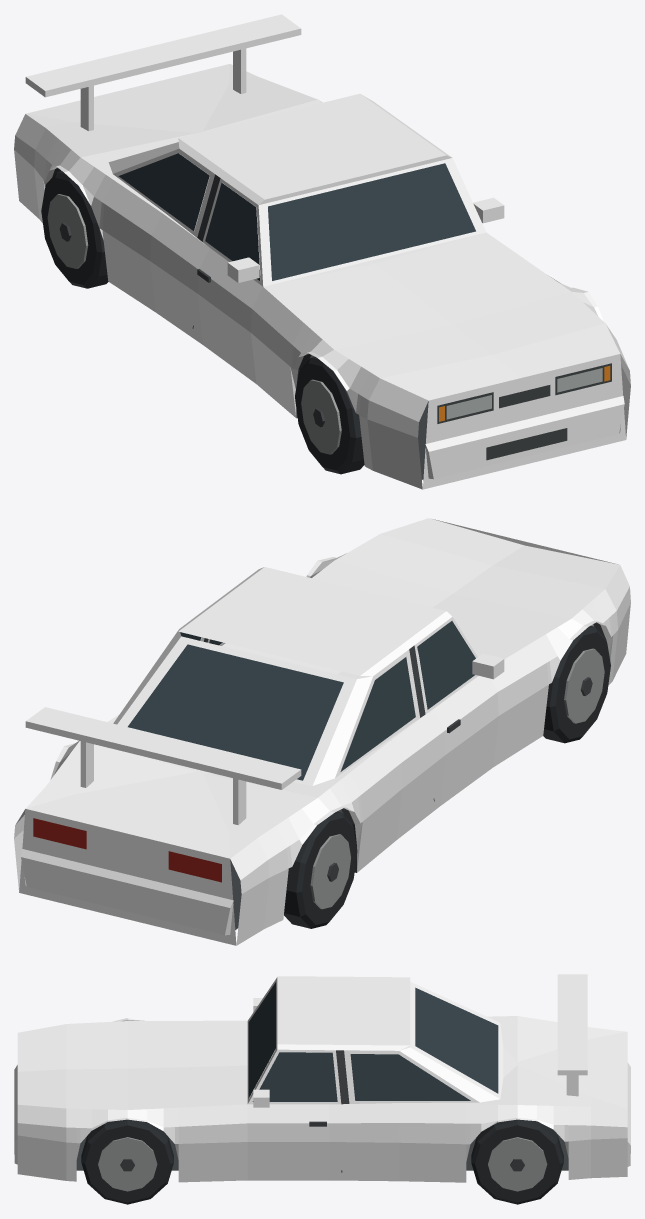
File: sanga_tsukikage_corrida_99.glb
3 views of the same model, one above another, from view 1: azimuth 30°, elevation 25°; view 2: azimuth 150°, elevation 25°; view 3: azimuth 270°, elevation 25° (orthographic). The views are drawn at different scales.
Visible parts, largest first — view 1: sanga_tsukikage_corrida_99; view 2: sanga_tsukikage_corrida_99; view 3: sanga_tsukikage_corrida_99.
Boxes of the visible parts, x1,y1,x2,y2 form: sanga_tsukikage_corrida_99: (14, 14, 630, 489); sanga_tsukikage_corrida_99: (14, 518, 630, 945); sanga_tsukikage_corrida_99: (14, 974, 630, 1204).
Bounding box in the file's own units: 1.77 × 1.19 × 4.54.
Materials: 8 (1 with a texture image).
